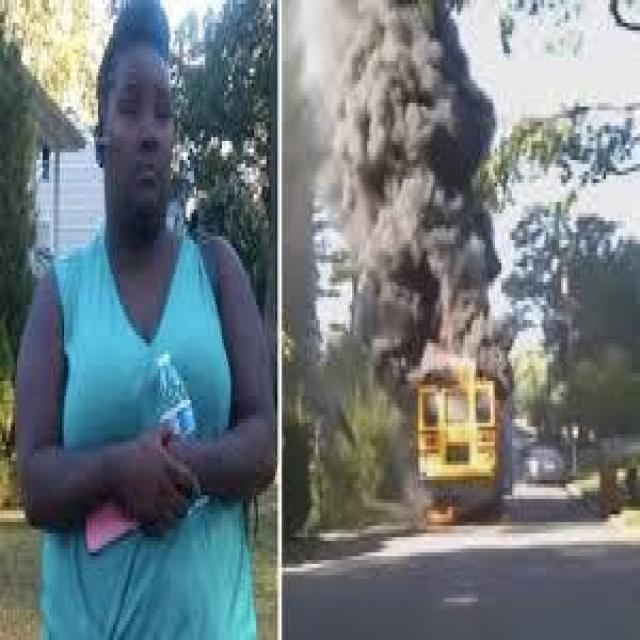smoke: (318, 15, 527, 445)
